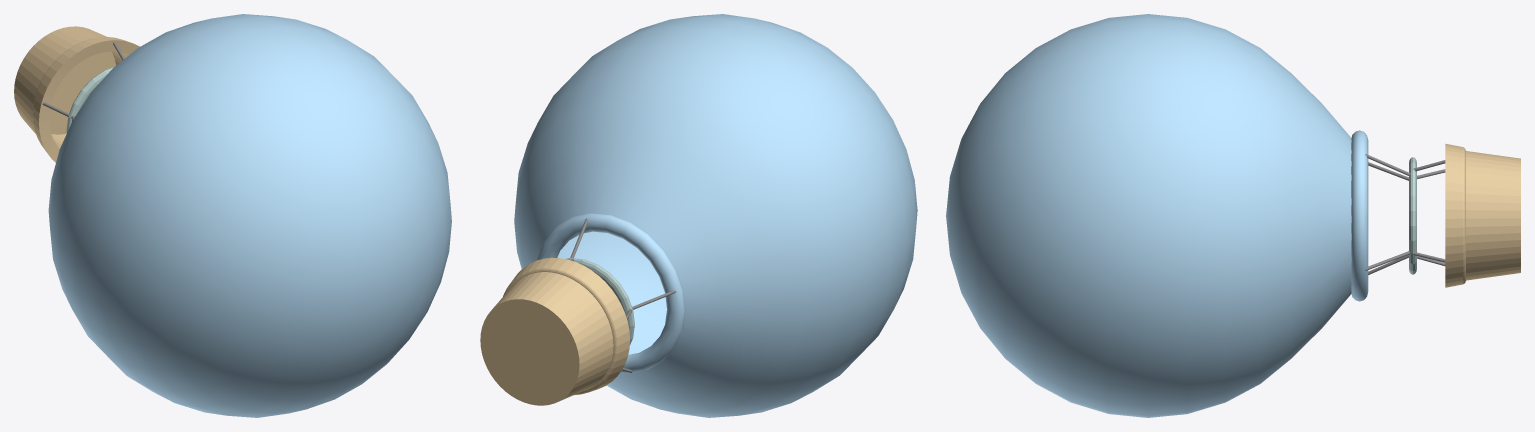
The model's file is HAB.glb.
3 views of the same model, side by side, from view 1: azimuth 30°, elevation 25°; view 2: azimuth 150°, elevation 25°; view 3: azimuth 270°, elevation 25° (orthographic).
Visible parts, largest first — view 1: Sphere.004, Cylinder.001, Torus; view 2: Sphere.004, Cylinder.001, Torus, Cylinder.005; view 3: Sphere.004, Cylinder.001, Cylinder.005, Torus.
Part boxes in pixels (box(x1,y1,x2,y2)): Sphere.004: box(48, 14, 451, 417); Cylinder.001: box(14, 26, 139, 162); Torus: box(66, 66, 114, 132); Sphere.004: box(514, 14, 917, 417); Cylinder.001: box(480, 257, 629, 405); Torus: box(566, 258, 634, 345); Cylinder.005: box(566, 218, 676, 372); Sphere.004: box(946, 14, 1368, 417); Cylinder.001: box(1445, 143, 1520, 287); Cylinder.005: box(1365, 154, 1445, 274); Torus: box(1409, 157, 1416, 274).
Size of the model in its own units: 1.69 by 1.69 by 2.41.
